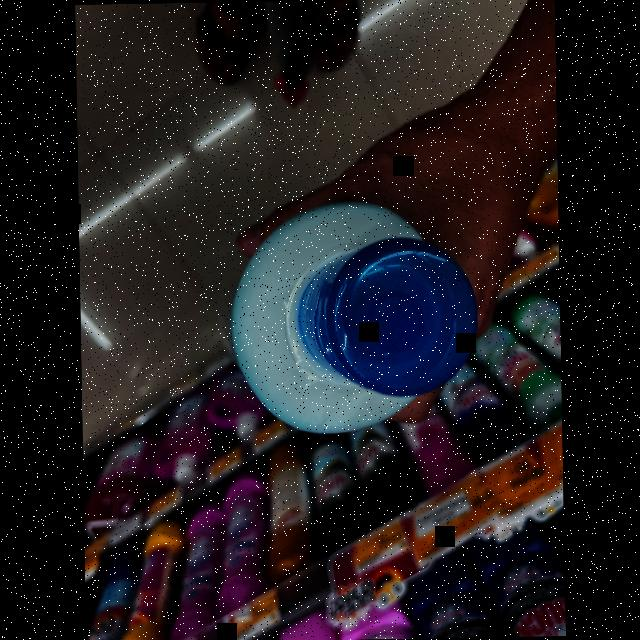chemical_plastic_bottle: (227, 196, 488, 440)
